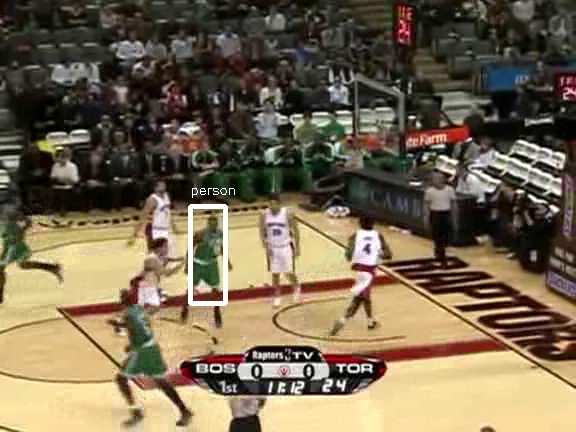person: (193, 214, 227, 295), (192, 214, 226, 295), (194, 214, 228, 295), (193, 213, 227, 294), (193, 215, 227, 296)
target_negative: (402, 43, 501, 298), (258, 148, 340, 340), (82, 53, 427, 81), (351, 144, 416, 245), (198, 202, 225, 418), (161, 423, 444, 429)
